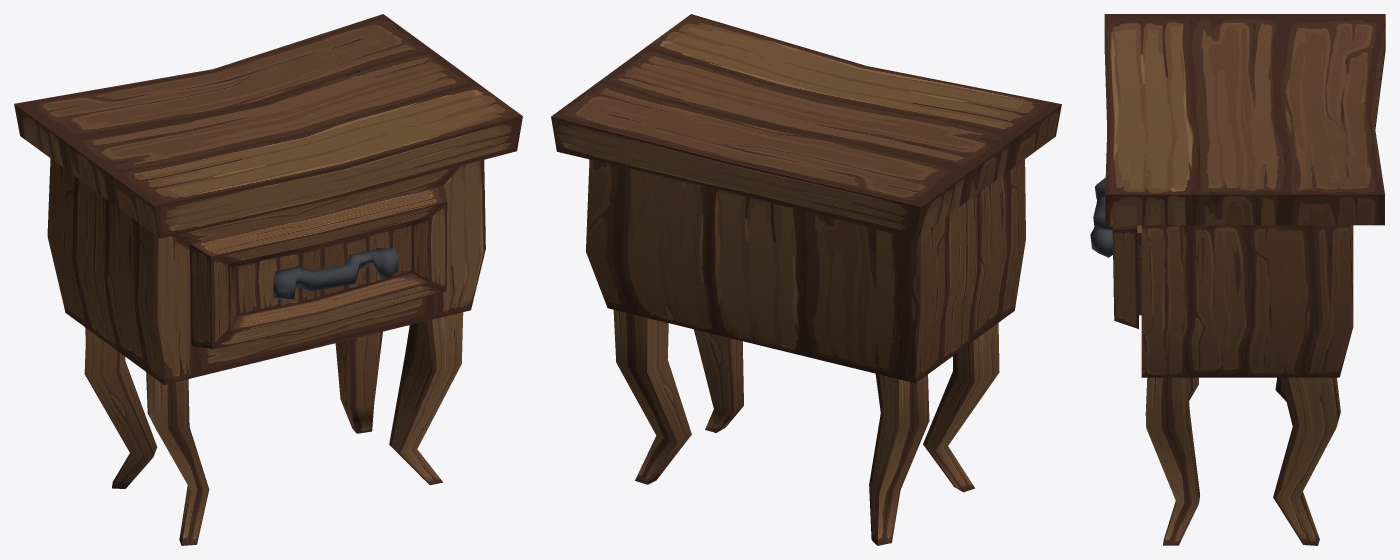
File: SM_PROP_nightstand_interior_01.fbx
3 views of the same model, side by side, from view 1: azimuth 30°, elevation 25°; view 2: azimuth 150°, elevation 25°; view 3: azimuth 270°, elevation 25° (orthographic).
Parts seen in each view (by area): view 1: SM_PROP_nightstand_interior_01, SM_PROP_nightstand_drawer_interior_01; view 2: SM_PROP_nightstand_interior_01; view 3: SM_PROP_nightstand_interior_01, SM_PROP_nightstand_drawer_interior_01.
Part boxes in pixels (<box>): SM_PROP_nightstand_interior_01: <box>14,14,522,545</box>; SM_PROP_nightstand_drawer_interior_01: <box>189,185,447,348</box>; SM_PROP_nightstand_interior_01: <box>551,14,1061,545</box>; SM_PROP_nightstand_interior_01: <box>1104,14,1385,545</box>; SM_PROP_nightstand_drawer_interior_01: <box>1090,178,1141,328</box>.
Bounding box in the file's own units: 88.16 × 85.62 × 60.93.
